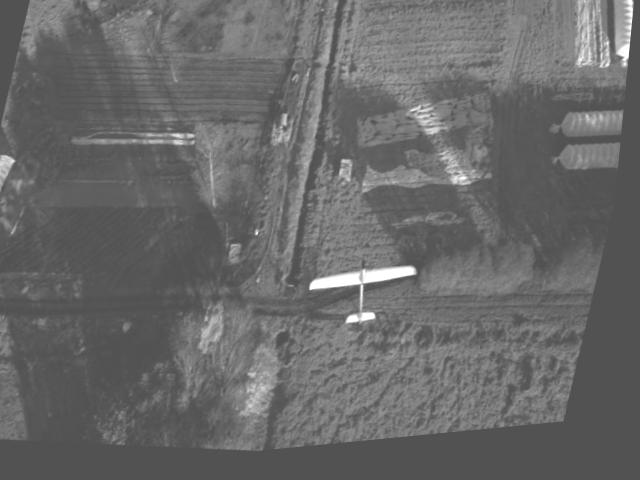hedef: (294, 232, 441, 355)
